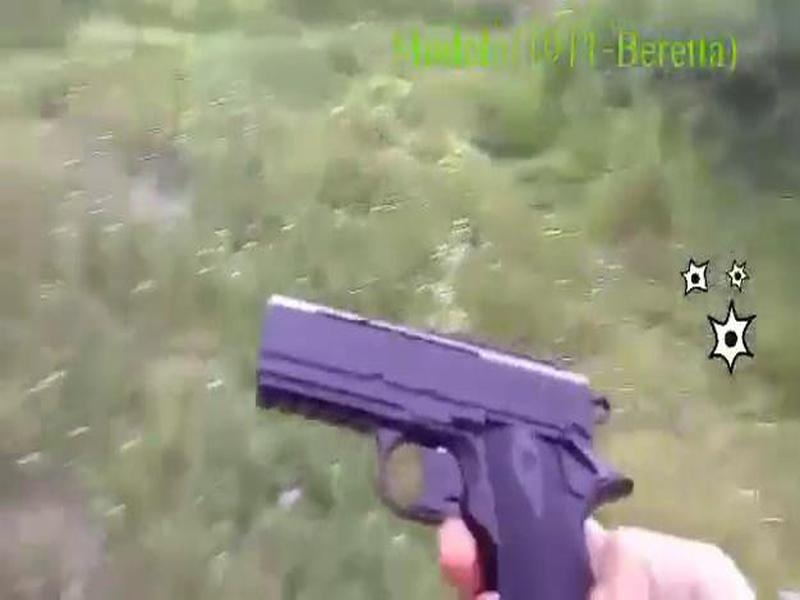Pistola: (242, 258, 648, 600)
